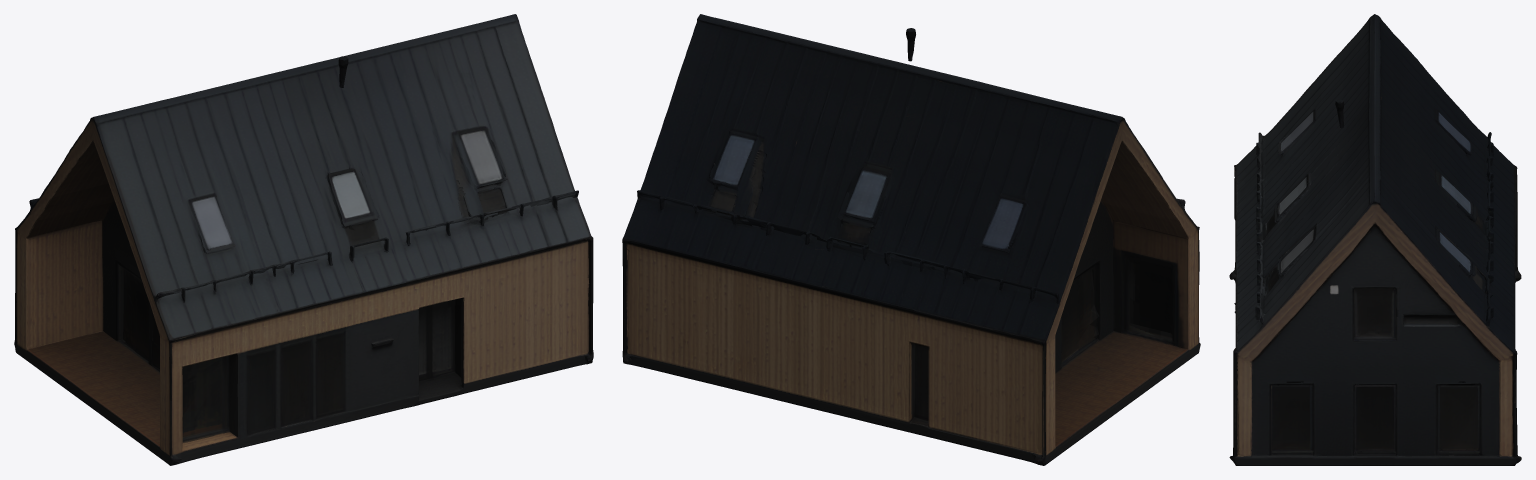
Rendered from domek1_trellis.glb.
3 views of the same model, side by side, from view 1: azimuth 30°, elevation 25°; view 2: azimuth 150°, elevation 25°; view 3: azimuth 270°, elevation 25° (orthographic). The views are drawn at different scales.
Visible parts, largest first — view 1: world; view 2: world; view 3: world.
Boxes of the visible parts, <box> form: world: <box>14,14,593,465</box>; world: <box>622,14,1200,465</box>; world: <box>1229,14,1521,465</box>.
Size of the model in its own units: 1 by 0.7002 by 0.6609.
Materials: 1 (1 with a texture image).
